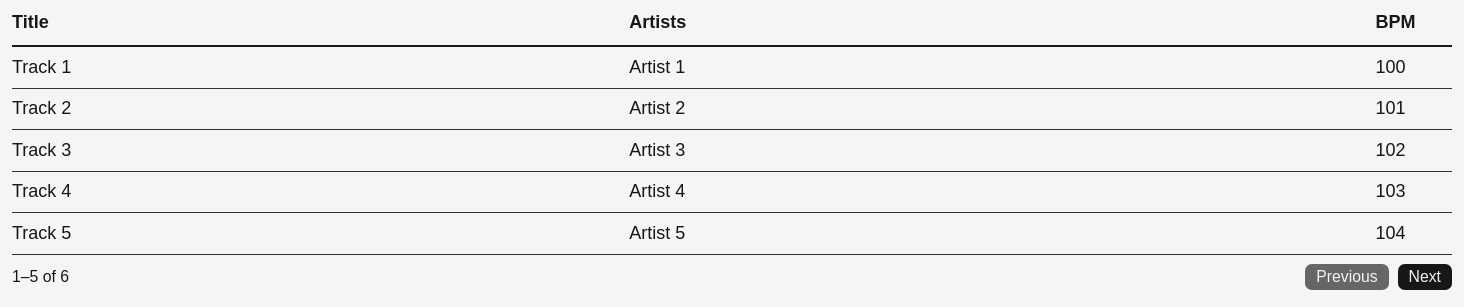
Test: Next button is disabled on the last page
Click the button "Next": {"x": 1425, "y": 277} [1398,264,1452,290]
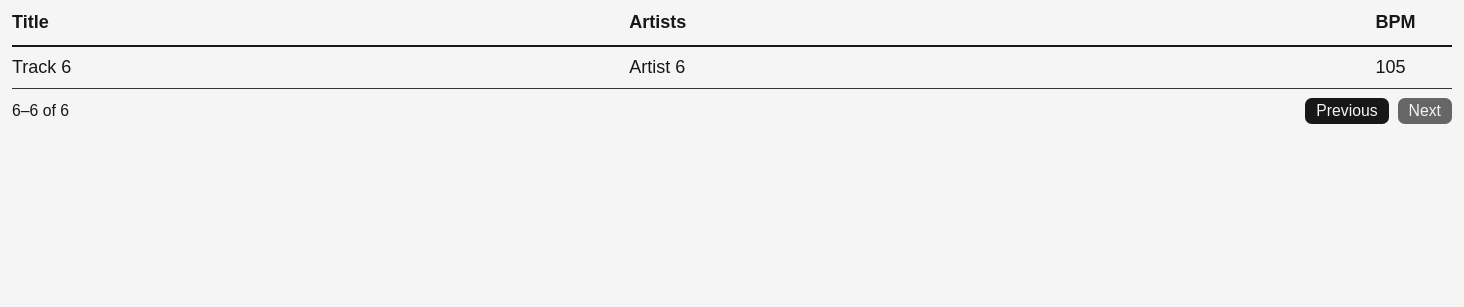
Result: the button "Next" is disabled at [1398,98,1452,124]
